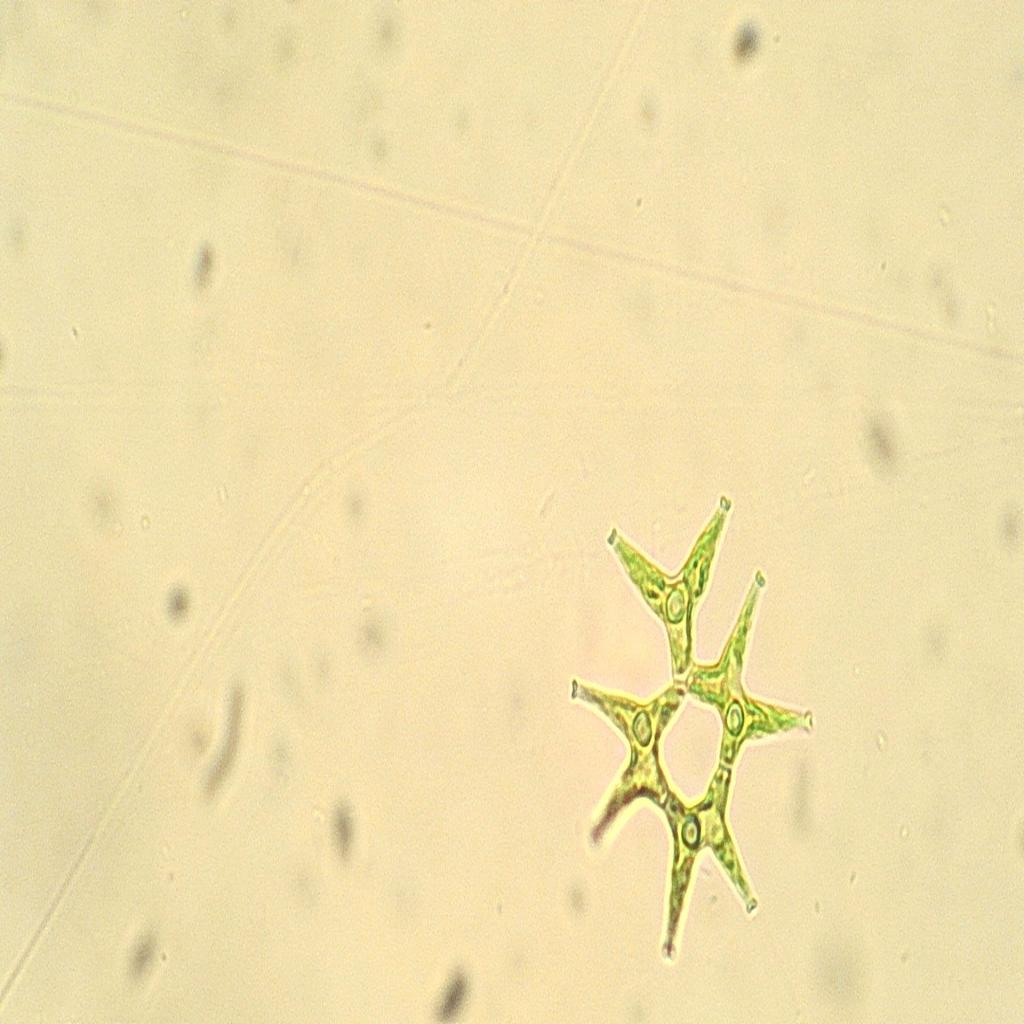Pediastrum_CT: (566, 475, 824, 969)
